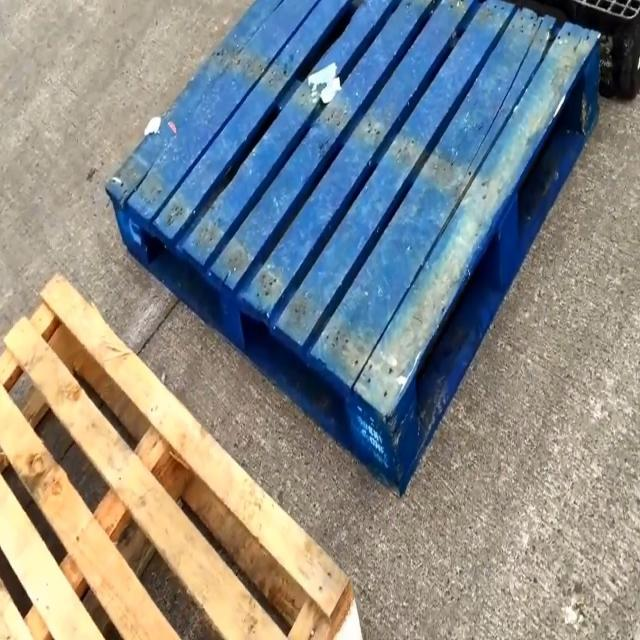Palette: (104, 0, 620, 496), (0, 263, 370, 639), (528, 0, 640, 108)
